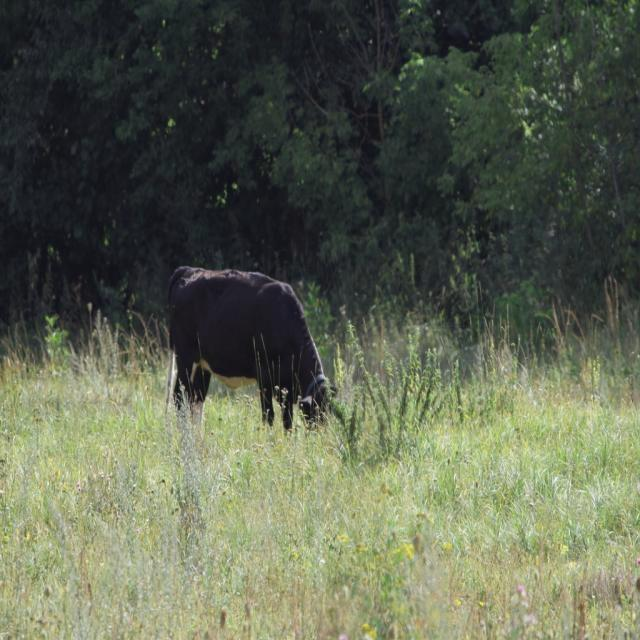cow: (169, 268, 329, 429)
